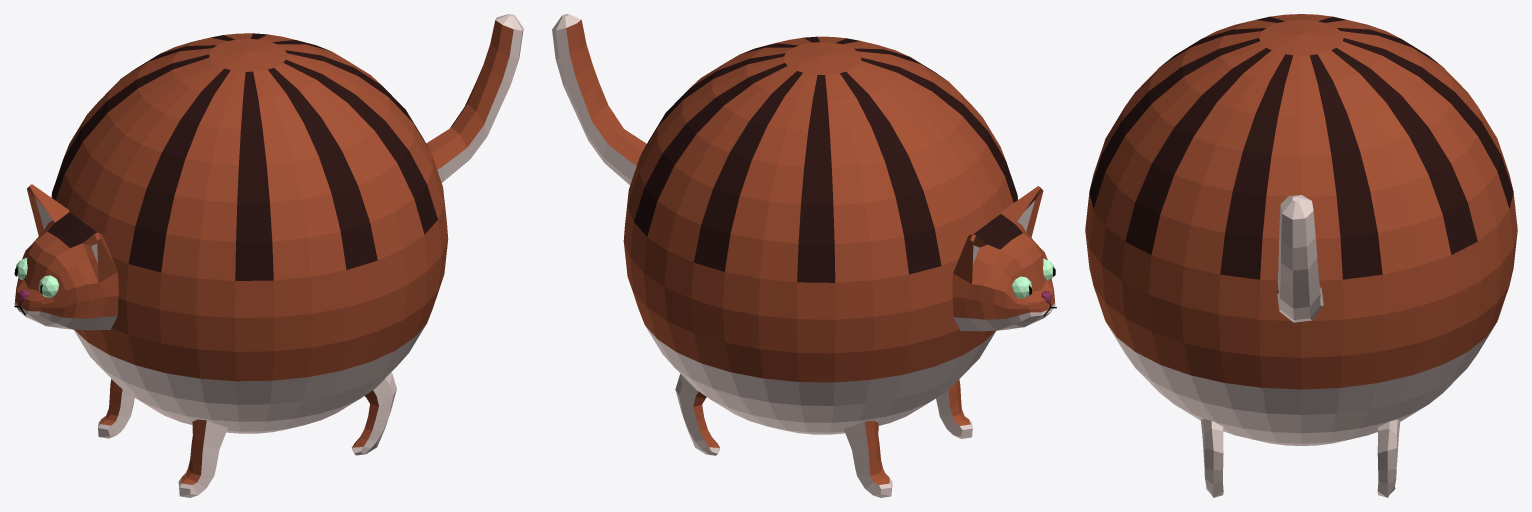
Rendered from cat.fbx.
The picture shows the model from 3 angles, left to right: view 1: azimuth 30°, elevation 25°; view 2: azimuth 150°, elevation 25°; view 3: azimuth 270°, elevation 25°; orthographic projection. The views are drawn at different scales.
Parts seen in each view (by area): view 1: body, head, tail, frontLegs, backLegs; view 2: body, head, tail, frontLegs, backLegs; view 3: body, tail, backLegs.
Boxes of the visible parts, bbox=[...] form: body: bbox=[51, 33, 448, 433]; head: bbox=[14, 184, 118, 330]; tail: bbox=[426, 14, 523, 182]; frontLegs: bbox=[98, 379, 227, 497]; backLegs: bbox=[351, 372, 396, 455]; body: bbox=[623, 36, 1017, 434]; head: bbox=[952, 186, 1055, 331]; tail: bbox=[552, 14, 646, 184]; frontLegs: bbox=[844, 379, 972, 497]; backLegs: bbox=[675, 374, 720, 455]; body: bbox=[1085, 14, 1517, 445]; tail: bbox=[1277, 195, 1323, 322]; backLegs: bbox=[1200, 418, 1400, 497].
Size of the model in its own units: 171 by 127 by 118.
